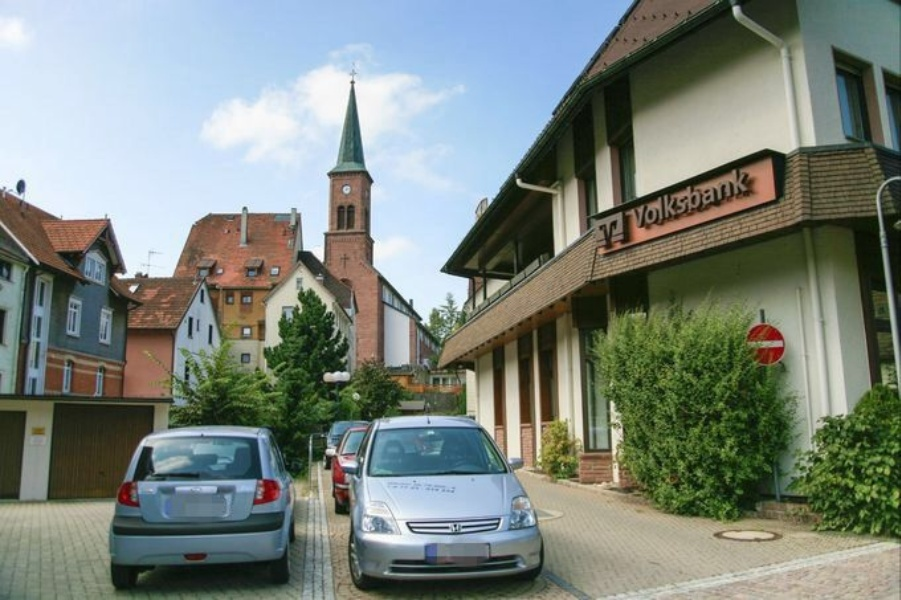text: (641, 163, 656, 234), (657, 163, 672, 234), (673, 163, 688, 234), (689, 163, 704, 234), (705, 163, 720, 234), (721, 163, 736, 234), (737, 163, 749, 234), (633, 163, 640, 234), (598, 219, 608, 250), (609, 219, 619, 250)
